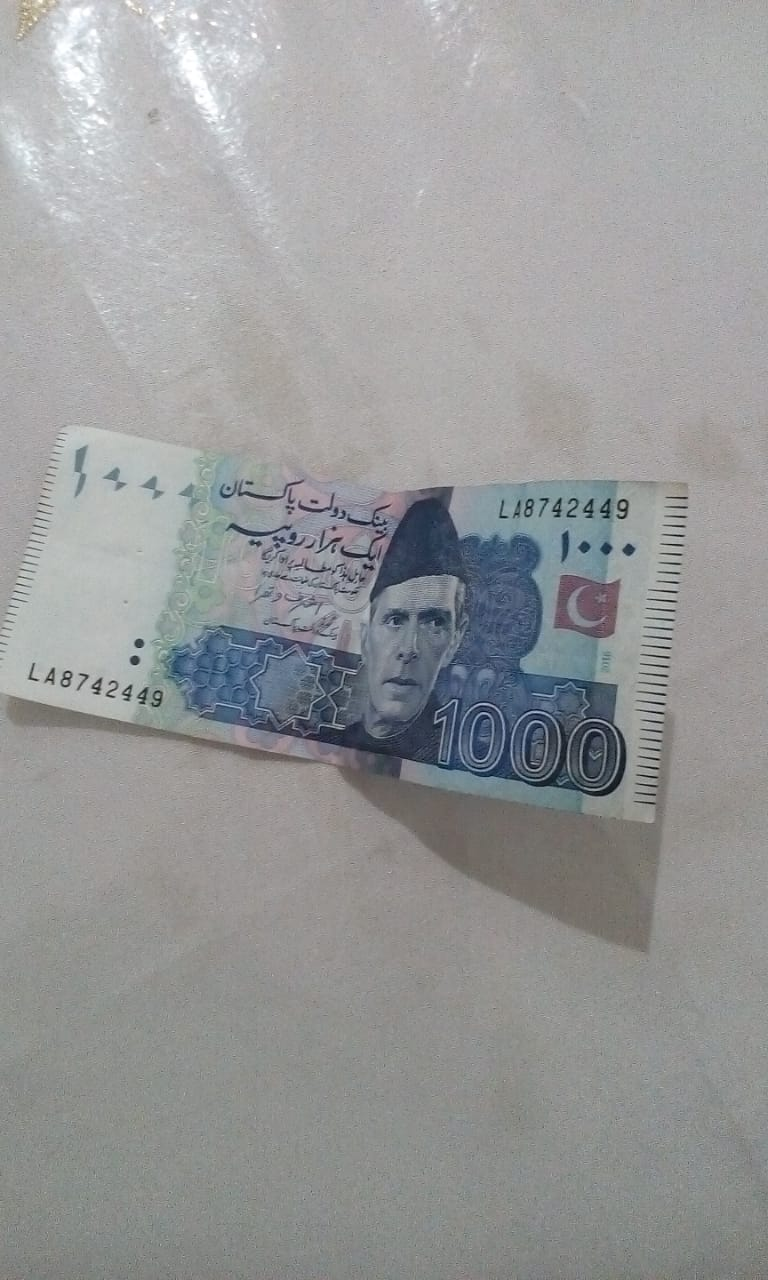1000 rupee: (22, 389, 684, 831)
